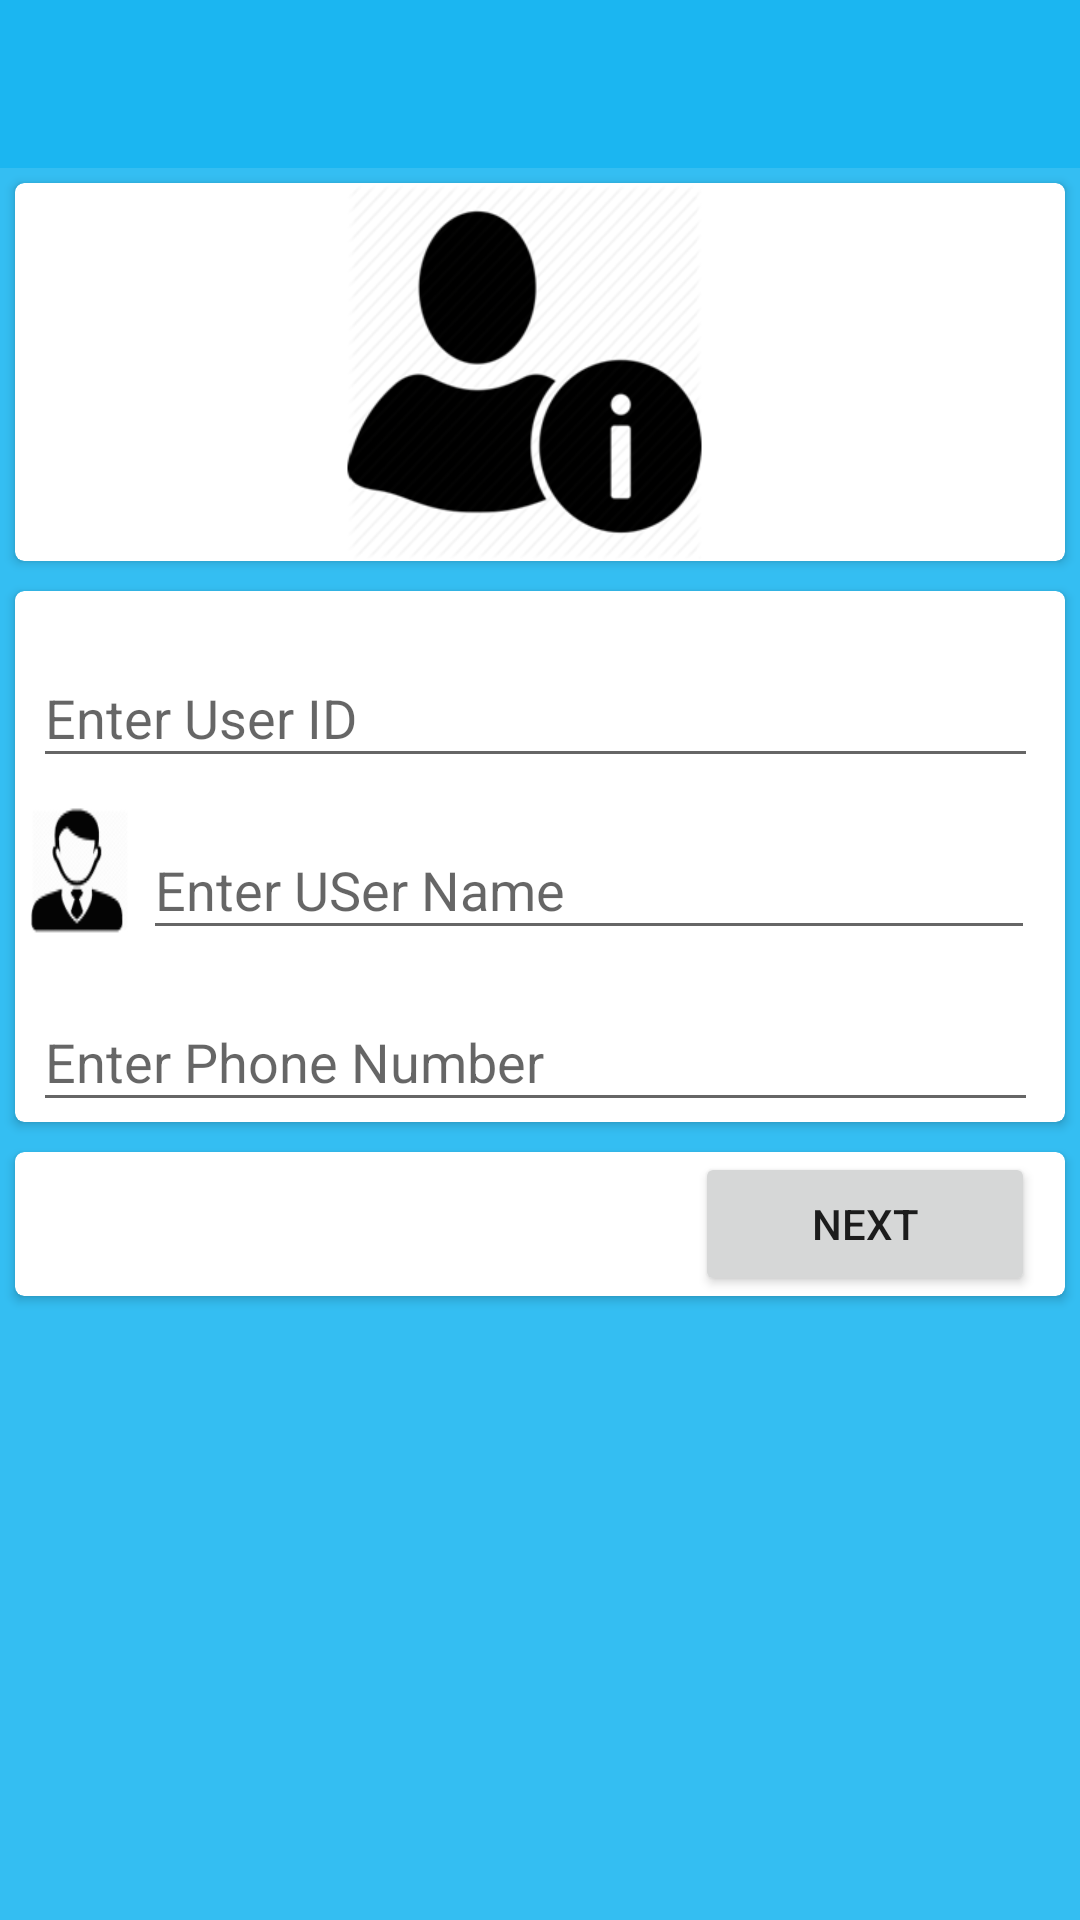

Screen size 1080 x 1920. Icon name, then its center in pixels as (x=x, y=y):
usernameicon: (x=77, y=870)
